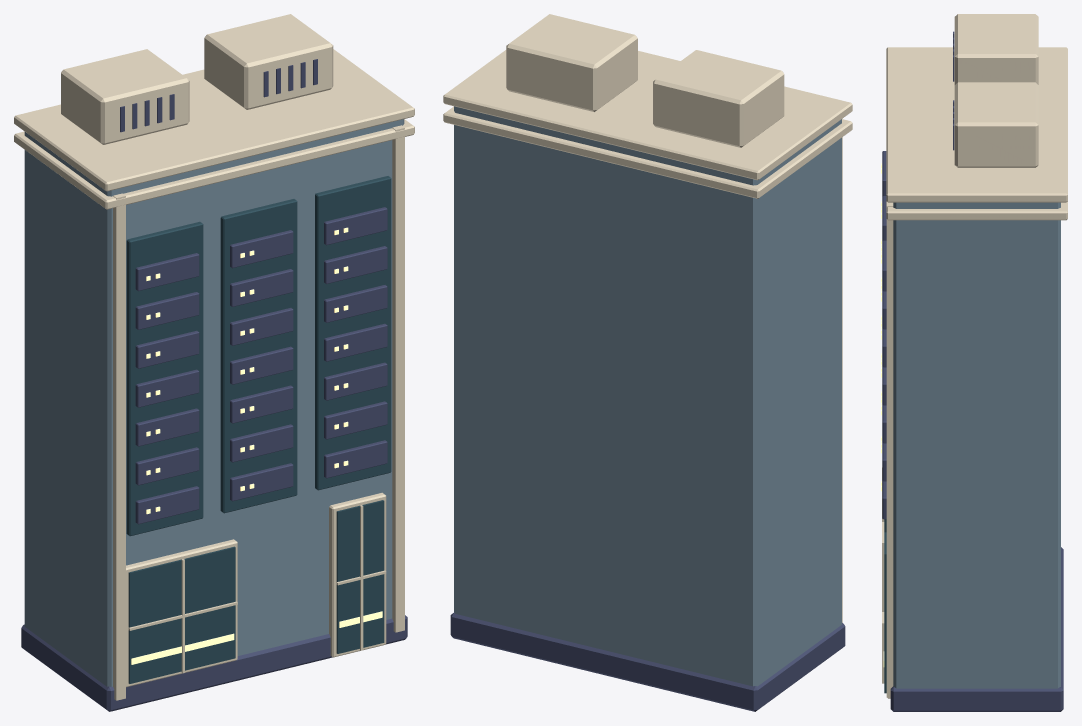
File: sf3_server_exchange_7m.glb
The picture shows the model from 3 angles, left to right: view 1: azimuth 30°, elevation 25°; view 2: azimuth 150°, elevation 25°; view 3: azimuth 270°, elevation 25°; orthographic projection. The views are drawn at different scales.
Parts seen in each view (by area): view 1: sf3_server_exchange_7m__sf3-dusty-blue, sf3_server_exchange_7m__sf3-warm-ivory, sf3_server_exchange_7m__sf3-deep-glass, sf3_server_exchange_7m__sf3-midnight-indigo, sf3_server_exchange_7m__sf3-warm-window; view 2: sf3_server_exchange_7m__sf3-dusty-blue, sf3_server_exchange_7m__sf3-warm-ivory, sf3_server_exchange_7m__sf3-midnight-indigo; view 3: sf3_server_exchange_7m__sf3-dusty-blue, sf3_server_exchange_7m__sf3-warm-ivory, sf3_server_exchange_7m__sf3-midnight-indigo, sf3_server_exchange_7m__sf3-deep-glass.
Boxes of the visible parts, bbox=[...] form: sf3_server_exchange_7m__sf3-dusty-blue: bbox=[24, 119, 404, 686]; sf3_server_exchange_7m__sf3-warm-ivory: bbox=[14, 14, 414, 700]; sf3_server_exchange_7m__sf3-deep-glass: bbox=[126, 176, 391, 683]; sf3_server_exchange_7m__sf3-midnight-indigo: bbox=[21, 59, 407, 711]; sf3_server_exchange_7m__sf3-warm-window: bbox=[131, 227, 382, 664]; sf3_server_exchange_7m__sf3-dusty-blue: bbox=[454, 106, 841, 686]; sf3_server_exchange_7m__sf3-warm-ivory: bbox=[443, 14, 852, 622]; sf3_server_exchange_7m__sf3-midnight-indigo: bbox=[450, 612, 845, 711]; sf3_server_exchange_7m__sf3-dusty-blue: bbox=[893, 202, 1060, 688]; sf3_server_exchange_7m__sf3-warm-ivory: bbox=[882, 14, 1067, 698]; sf3_server_exchange_7m__sf3-midnight-indigo: bbox=[882, 31, 1063, 711]; sf3_server_exchange_7m__sf3-deep-glass: bbox=[884, 519, 886, 693].
Bounding box in the file's own units: 6.25 × 11.25 × 3.35.
